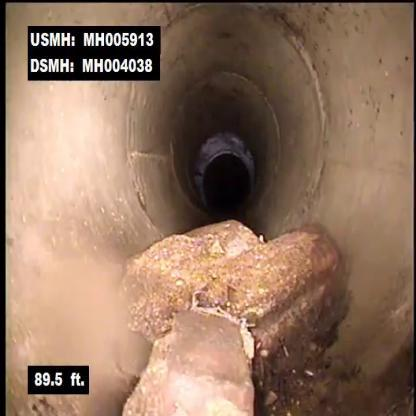Obstacle: (101, 195, 372, 415)
